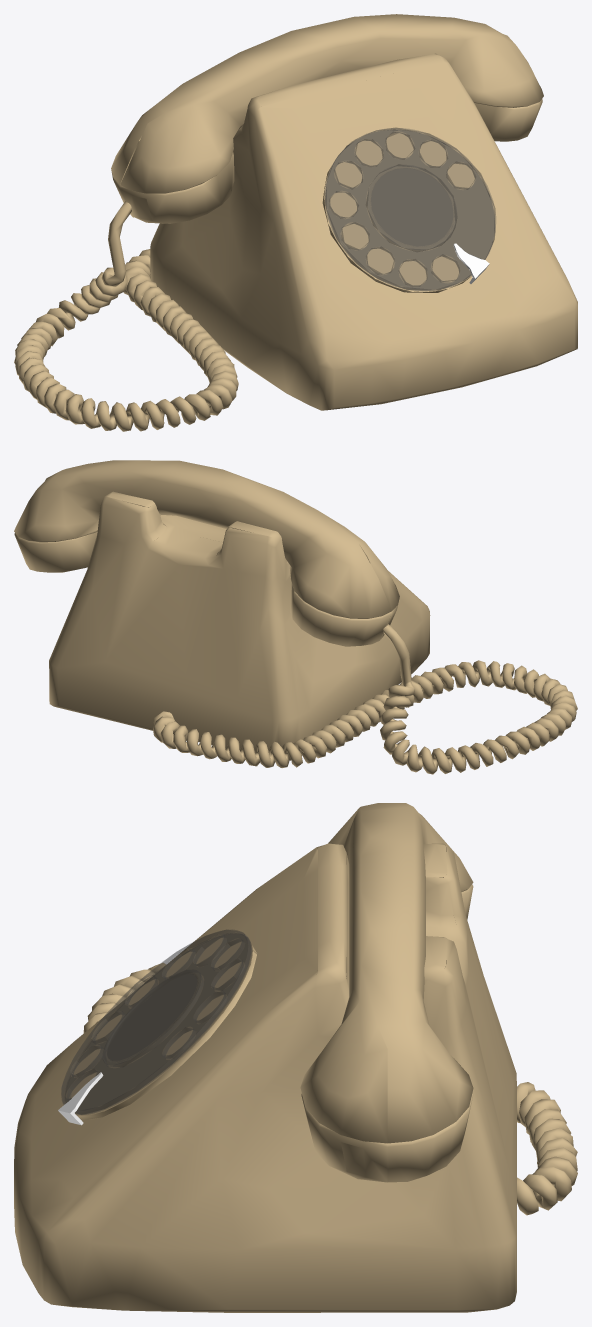
The model's file is Telephone.fbx.
3 views of the same model, one above another, from view 1: azimuth 30°, elevation 25°; view 2: azimuth 150°, elevation 25°; view 3: azimuth 270°, elevation 25° (orthographic). The views are drawn at different scales.
Visible parts, largest first — view 1: Telephone; view 2: Telephone; view 3: Telephone.
Boxes of the visible parts, box(x1,y1,x2,y2) form: Telephone: box(14, 14, 577, 431); Telephone: box(14, 460, 577, 774); Telephone: box(14, 803, 577, 1312).
Size of the model in its own units: 0.3983 by 0.2565 by 0.1806.
